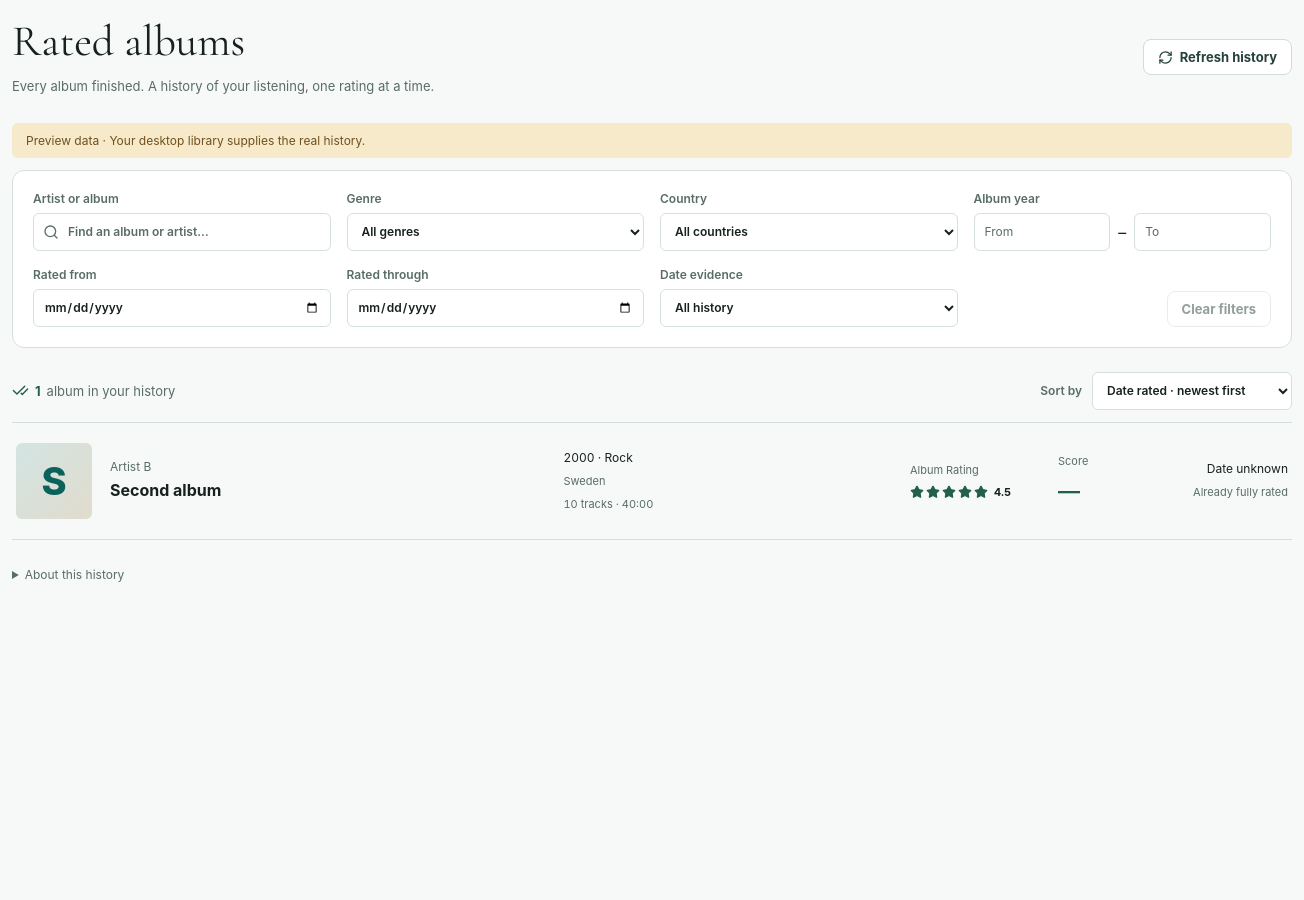
Test case: ignores late requests, retains rows on failure and recovers on retry
This screenshot has width=1304, height=900.
Expected: the text "Second album" is shown, [110,480,221,502]
Expected: the text "First album" is not shown
Click the button "Refresh history" at coordinates (1217, 57), box [1143,39,1292,75]
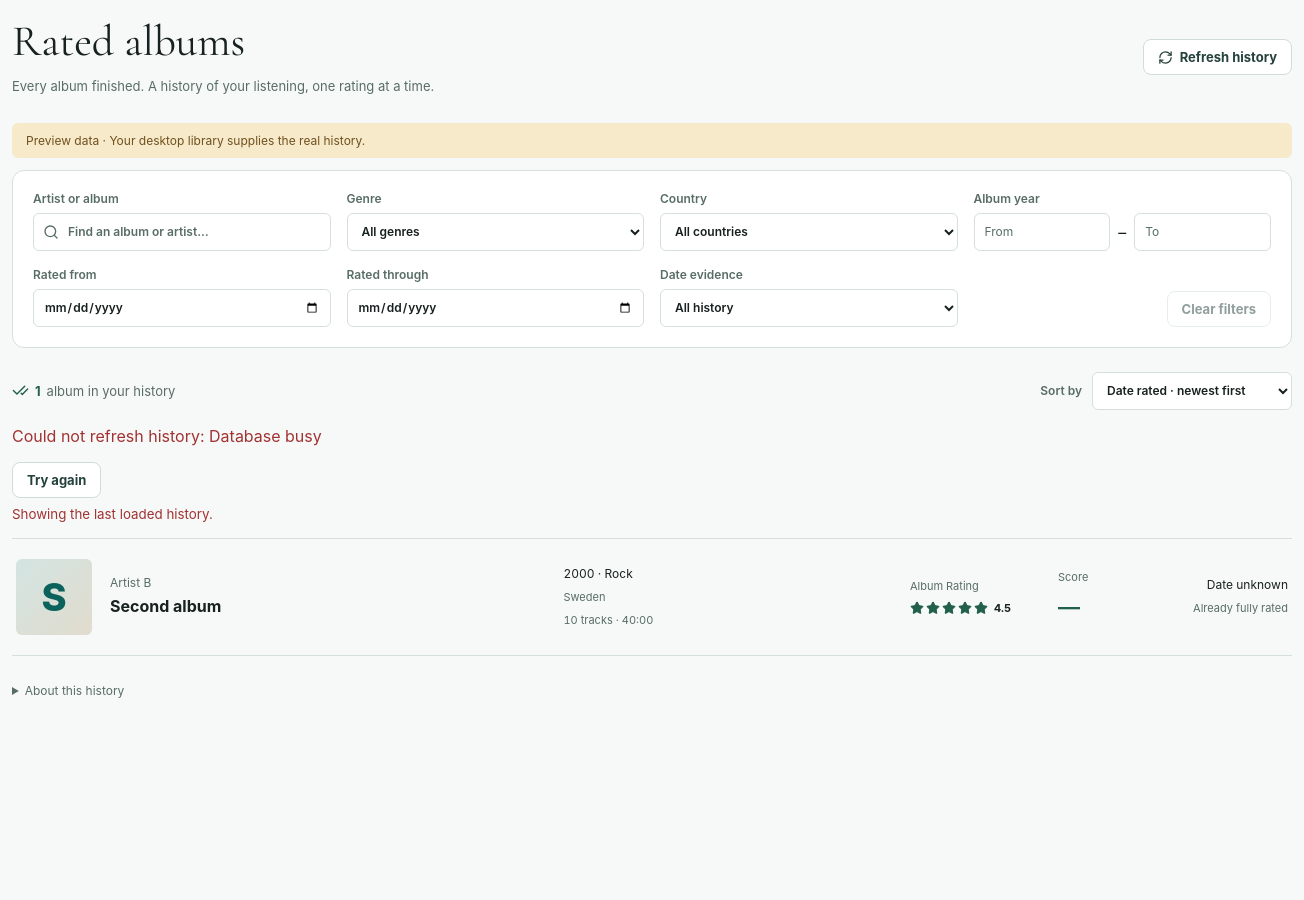
Expected: the text "Second album" is shown, [110,596,221,618]
Result: the text "Could not refresh history: Database busy" is shown at [12,426,322,446]
Click the button "Try again" at coordinates (57, 480), box [12,462,101,498]
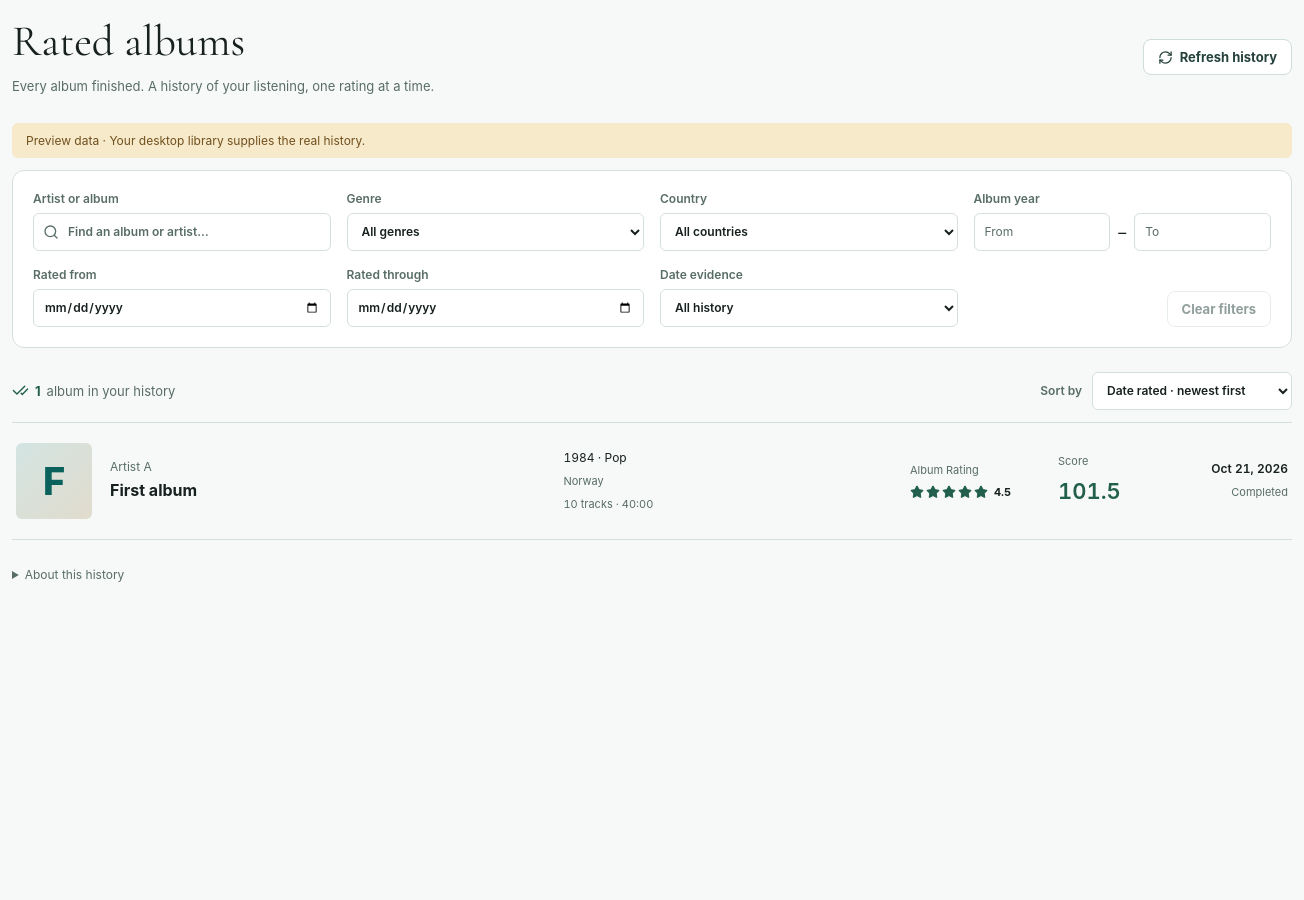
Result: the text "First album" is shown at [110,480,197,502]
